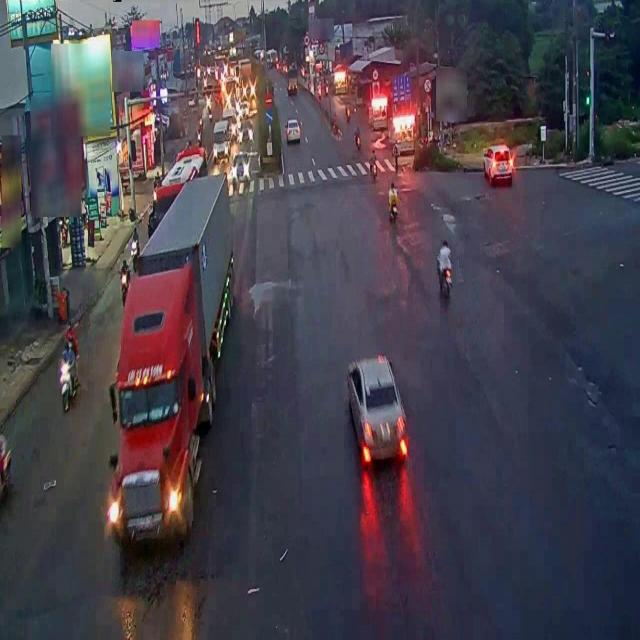car: (344, 353, 408, 473)
motorcycle: (435, 232, 453, 299), (386, 178, 400, 225)
truck: (112, 173, 236, 544)
